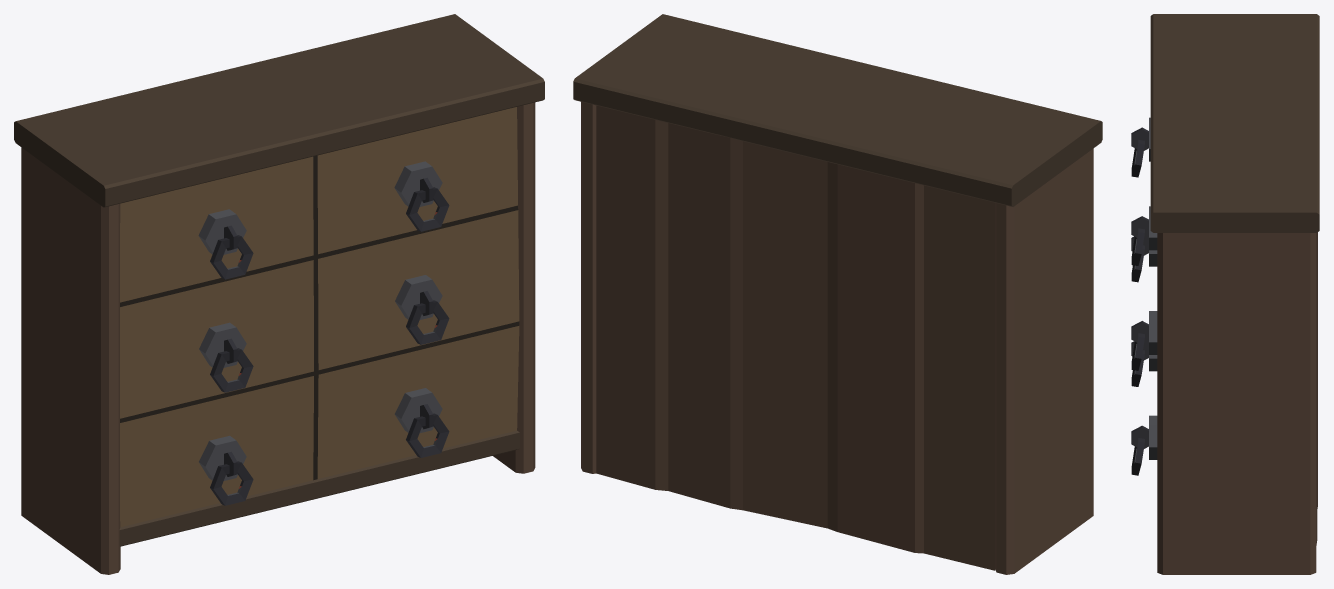
Rendered from Cupboard_3.fbx.
The picture shows the model from 3 angles, left to right: view 1: azimuth 30°, elevation 25°; view 2: azimuth 150°, elevation 25°; view 3: azimuth 270°, elevation 25°; orthographic projection. The views are drawn at different scales.
Parts seen in each view (by area): view 1: pCylinder281; view 2: pCylinder281; view 3: pCylinder281.
Part boxes in pixels (bbox=[...]): pCylinder281: bbox=[14, 14, 544, 574]; pCylinder281: bbox=[573, 14, 1102, 574]; pCylinder281: bbox=[1131, 14, 1319, 574].
Size of the model in its own units: 163 by 139 by 65.13.
